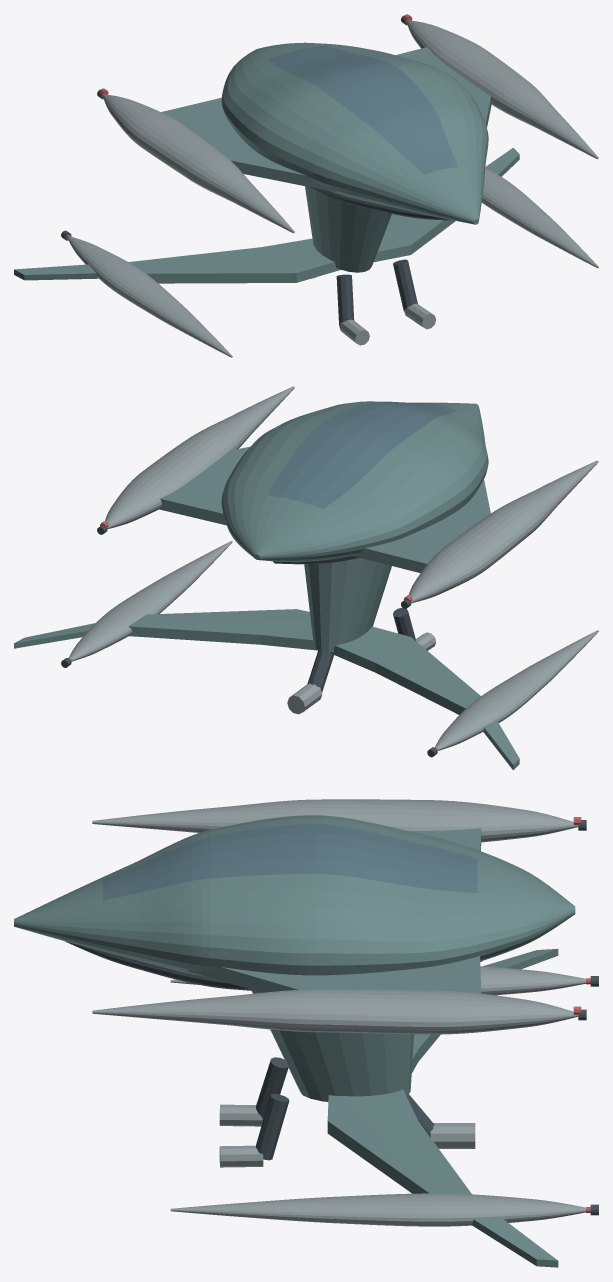
The model's file is arma_teal_landed.glb.
The picture shows the model from 3 angles, top to bottom: view 1: azimuth 30°, elevation 25°; view 2: azimuth 150°, elevation 25°; view 3: azimuth 270°, elevation 25°; orthographic projection. The views are drawn at different scales.
Parts seen in each view (by area): view 1: material_0, material_3, material_1, material_2; view 2: material_0, material_3, material_1, material_2; view 3: material_0, material_3, material_1, material_2.
Part boxes in pixels (bbox=[...]): material_0: bbox=[14, 42, 519, 283]; material_3: bbox=[67, 20, 598, 357]; material_1: bbox=[267, 46, 457, 174]; material_2: bbox=[61, 15, 453, 325]; material_0: bbox=[14, 401, 519, 770]; material_3: bbox=[68, 386, 598, 750]; material_1: bbox=[267, 401, 457, 508]; material_2: bbox=[61, 525, 437, 757]; material_0: bbox=[14, 815, 575, 1267]; material_3: bbox=[92, 799, 585, 1226]; material_1: bbox=[103, 824, 477, 900]; material_2: bbox=[65, 820, 598, 1215].
Size of the model in its own units: 4.8 by 2.17 by 3.81.
